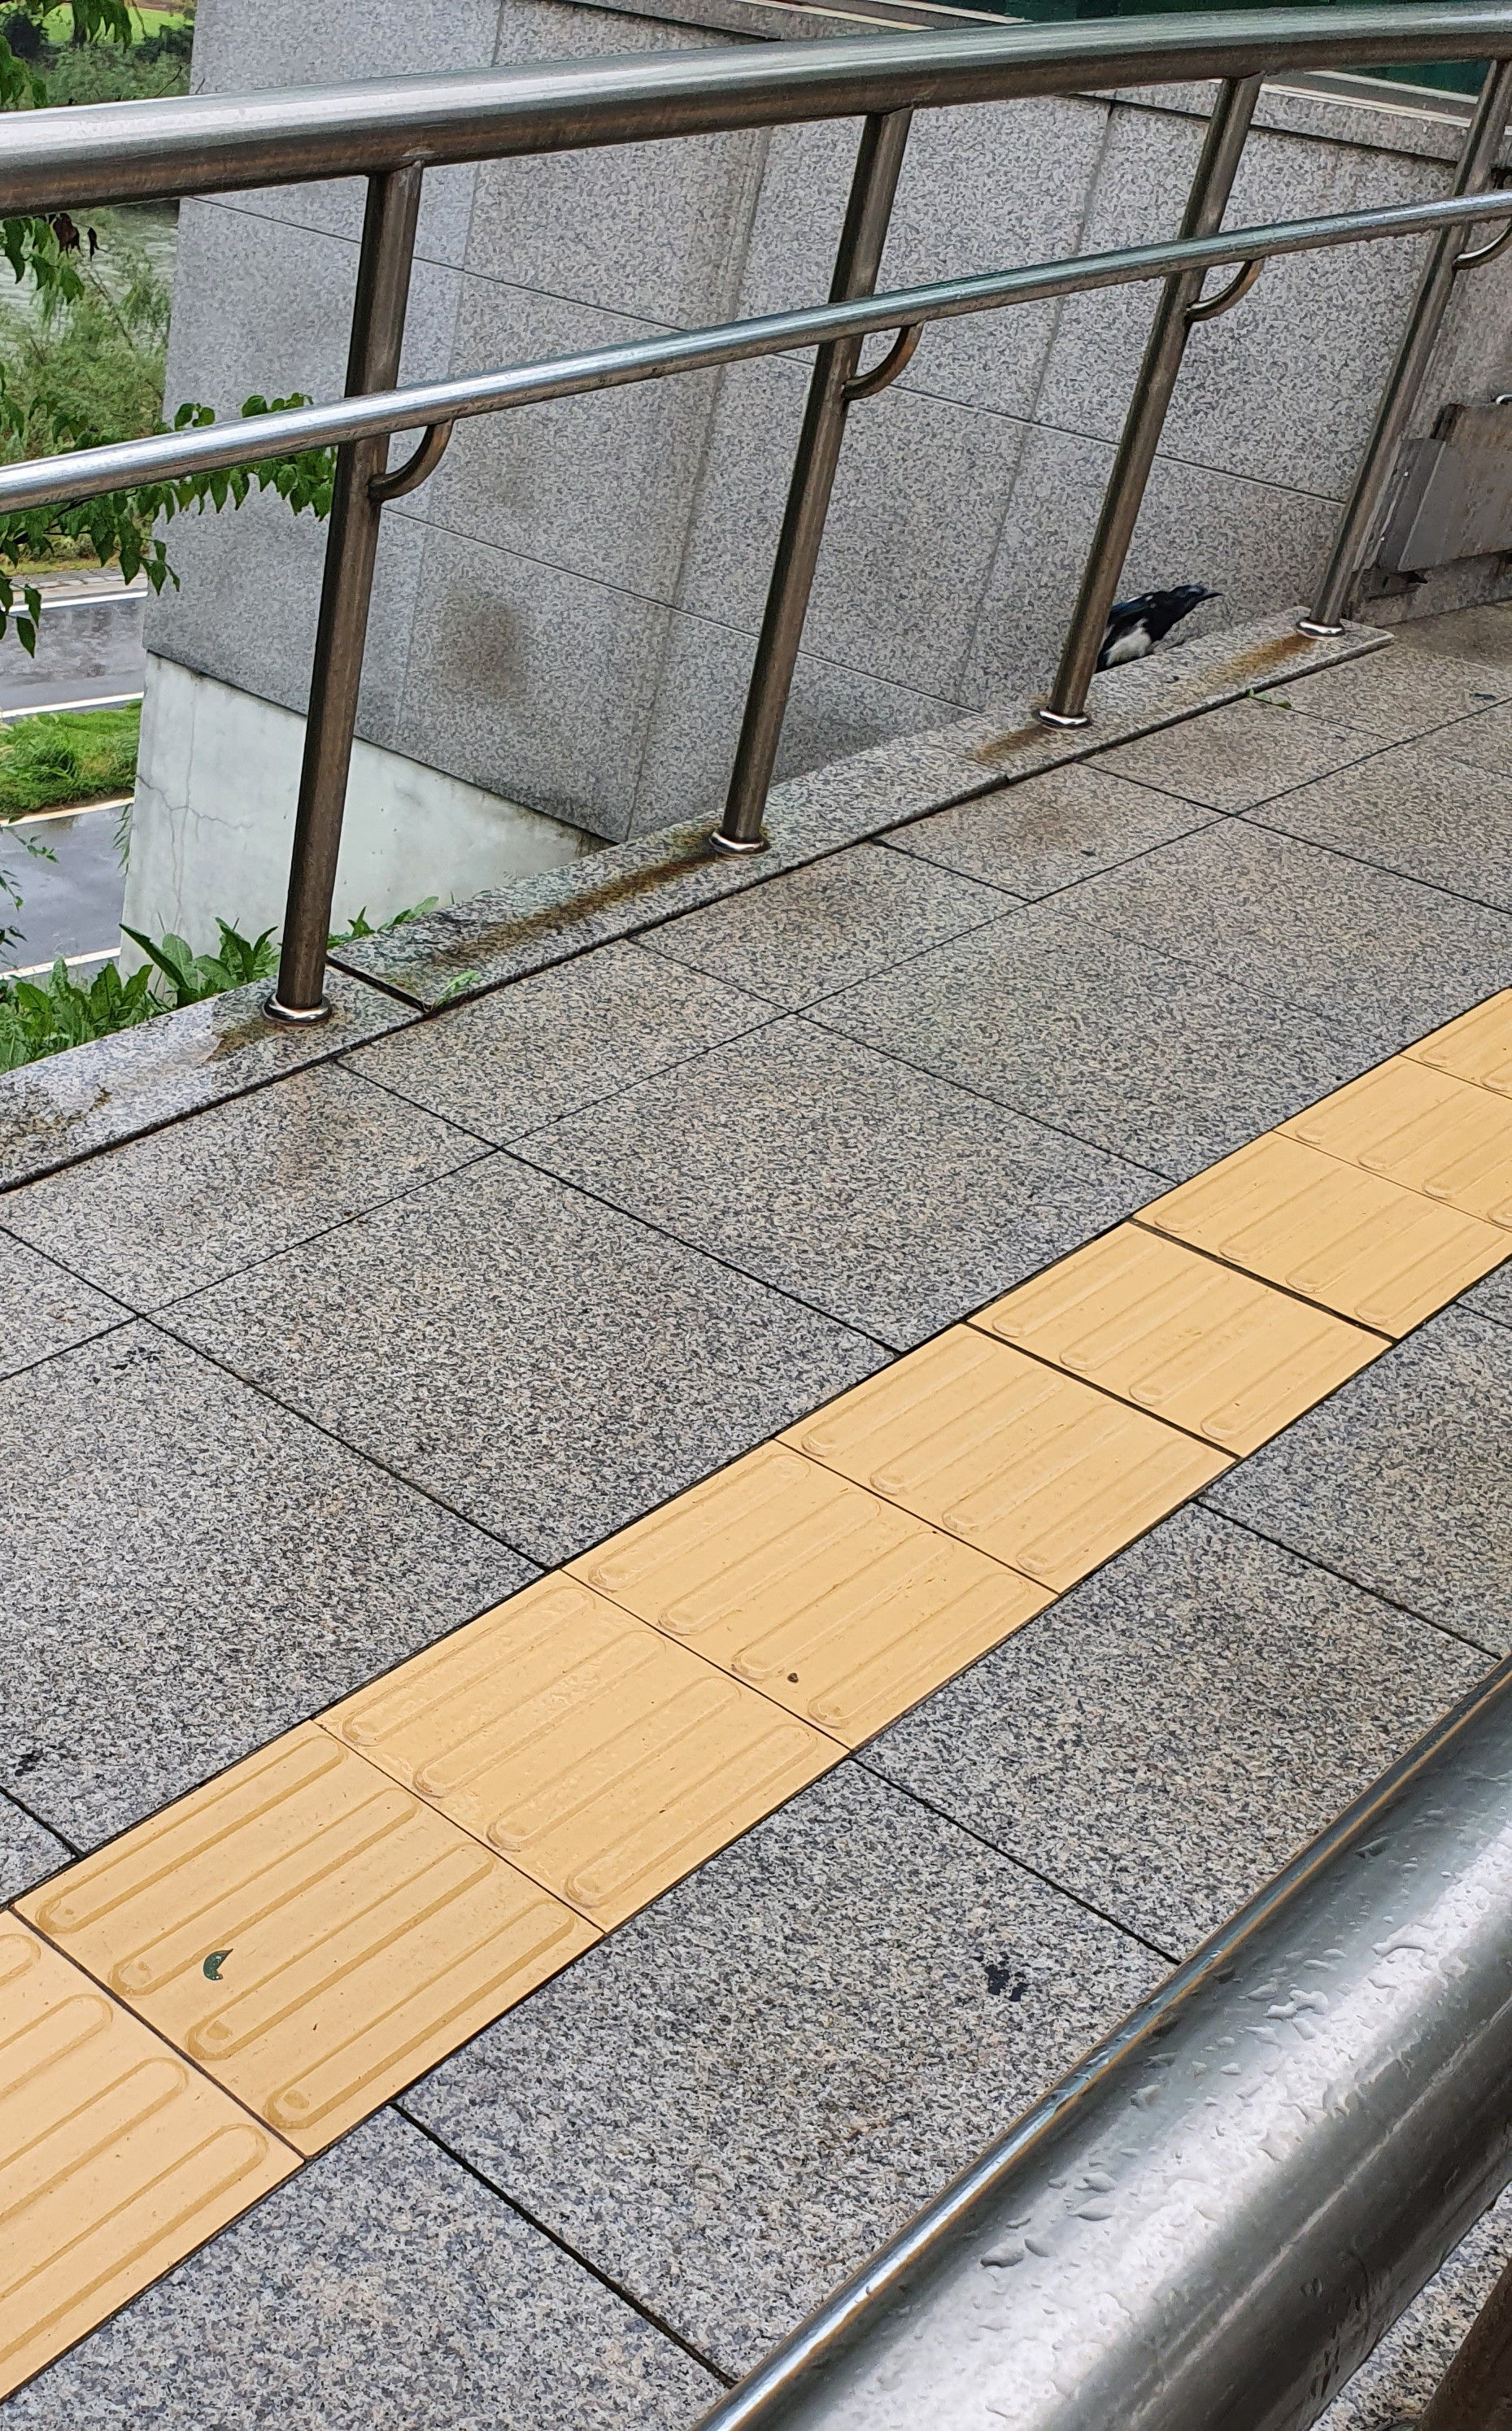guideBlock: (63, 1740, 486, 2086), (19, 1889, 327, 2299), (375, 1578, 768, 1870), (852, 1263, 1176, 1595), (657, 1456, 969, 1724), (1021, 1228, 1357, 1475), (1151, 1148, 1453, 1330), (1340, 1040, 1512, 1236)
